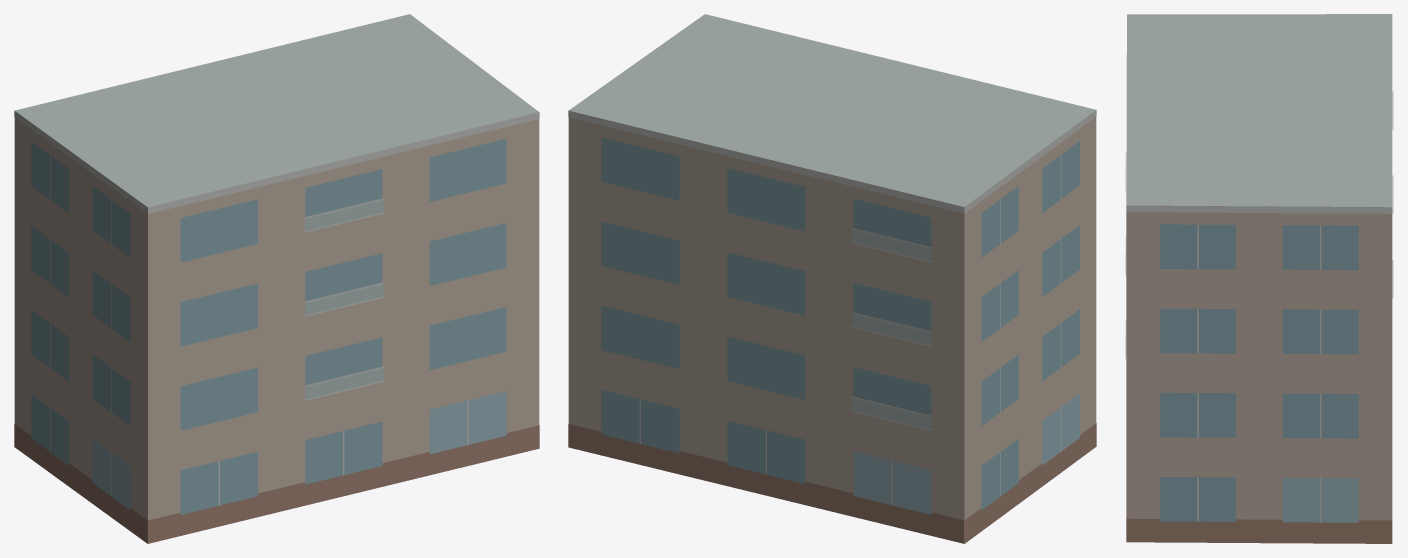
Rendered from survey-upis-32760391.glb.
3 views of the same model, side by side, from view 1: azimuth 30°, elevation 25°; view 2: azimuth 150°, elevation 25°; view 3: azimuth 270°, elevation 25° (orthographic).
Parts seen in each view (by area): view 1: survey-upis-32760391.tmp; view 2: survey-upis-32760391.tmp; view 3: survey-upis-32760391.tmp.
Boxes of the visible parts, box(x1,y1,x2,y2) form: survey-upis-32760391.tmp: box(14, 14, 539, 543); survey-upis-32760391.tmp: box(568, 14, 1096, 543); survey-upis-32760391.tmp: box(1125, 14, 1393, 543).
Bounding box in the file's own units: 15.14 × 12.3 × 8.88.
